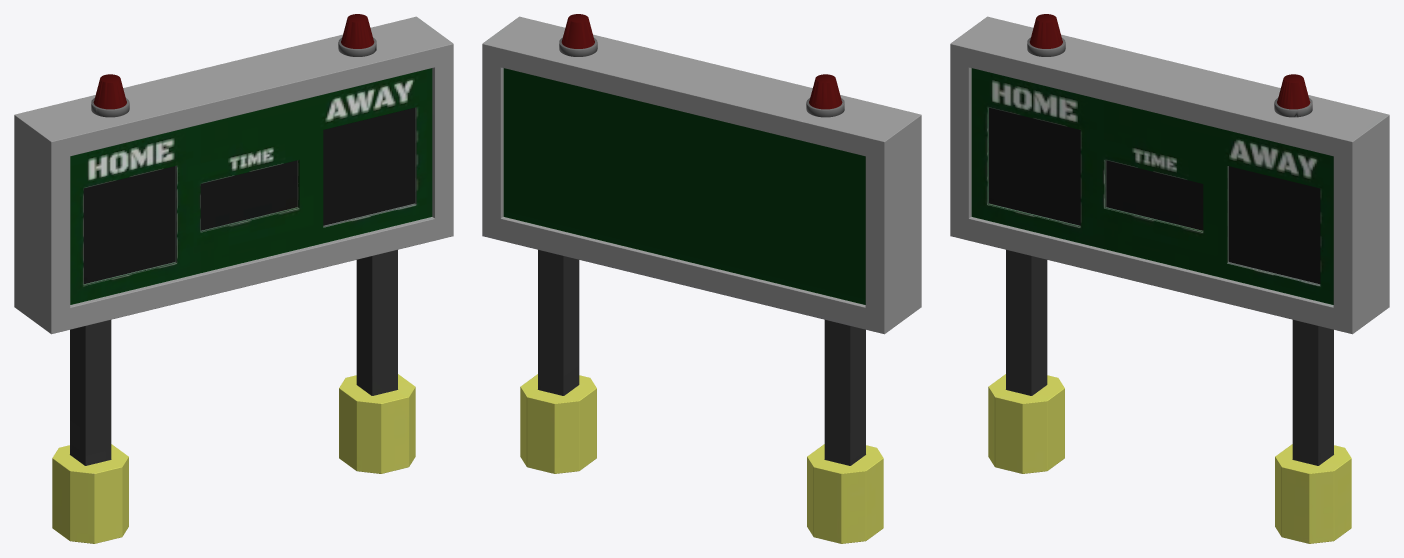
Rendered from scoreboard.lod0.glb.
3 renders of one model, left to right at view 1: azimuth 30°, elevation 25°; view 2: azimuth 150°, elevation 25°; view 3: azimuth 330°, elevation 25°, orthographic.
Visible parts, largest first — view 1: ScoreBoard_Scoreboard_0, Home Light_Light_0; view 2: ScoreBoard_Scoreboard_0, Home Light_Light_0; view 3: ScoreBoard_Scoreboard_0, Home Light_Light_0.
Part boxes in pixels (x1,y1,x2,y2): ScoreBoard_Scoreboard_0: (14,16,453,543); Home Light_Light_0: (91,14,376,117); ScoreBoard_Scoreboard_0: (482,16,921,543); Home Light_Light_0: (559,14,844,117); ScoreBoard_Scoreboard_0: (950,16,1389,543); Home Light_Light_0: (1027,14,1312,117).
Bounding box in the file's own units: 6.64 × 7 × 1.07.
Materials: 2 (2 with a texture image).
